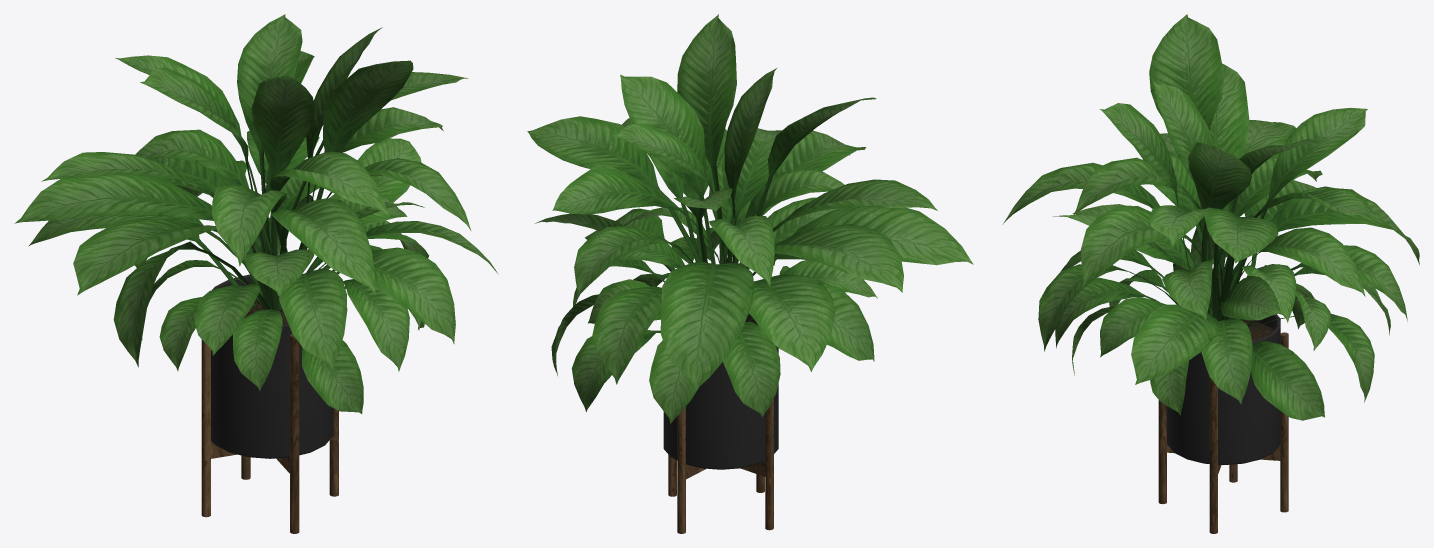
Rendered from plant01spp.gltf.
3 views of the same model, side by side, from view 1: azimuth 30°, elevation 25°; view 2: azimuth 150°, elevation 25°; view 3: azimuth 270°, elevation 25° (orthographic). The views are drawn at different scales.
Parts seen in each view (by area): view 1: 1; view 2: 1; view 3: 1.
Part boxes in pixels (<box>): 1: <box>14,14,498,533</box>; 1: <box>527,14,973,533</box>; 1: <box>1002,14,1419,533</box>.
Bounding box in the file's own units: 0.8429 × 0.8707 × 0.7687.
Materials: 1 (1 with a texture image).
